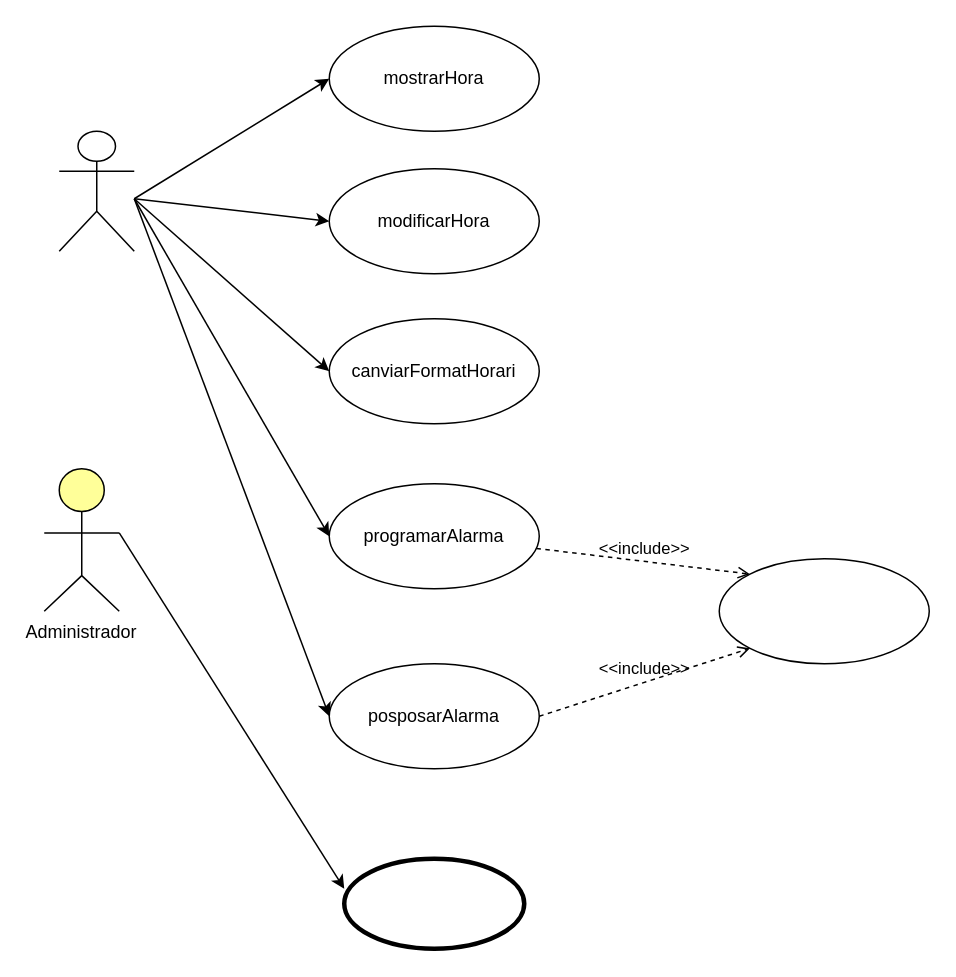
Some shapes in this 956 by 977 pixel diagram are drawn without their labels. Here are the shapes that lost their labels. From the top down, the box of each, then its label:
(58, 130, 134, 251): Usuari
(718, 557, 929, 664): sonarPistaAudio
(341, 856, 526, 950): afegirPublicitat
